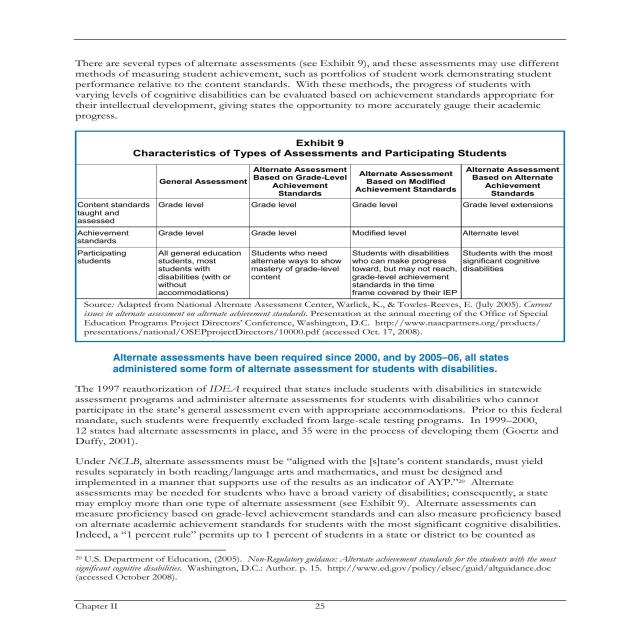table: (76, 166, 558, 296)
